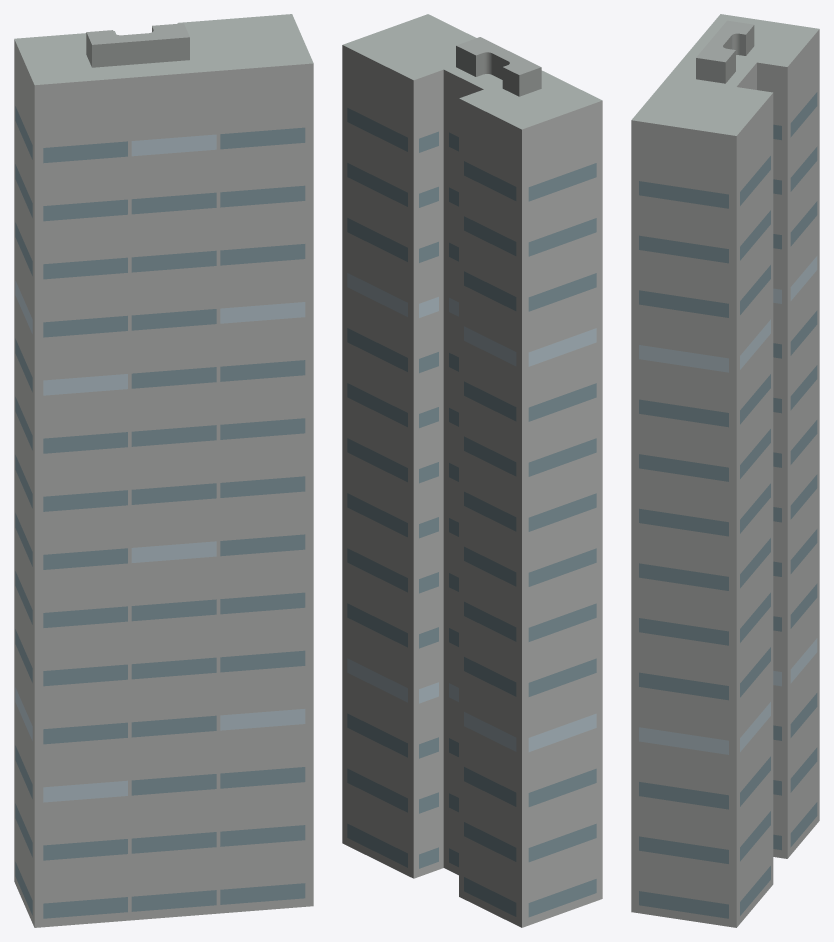
Rendered from fallback-dh-honor-hills-309.glb.
3 views of the same model, side by side, from view 1: azimuth 30°, elevation 25°; view 2: azimuth 150°, elevation 25°; view 3: azimuth 270°, elevation 25° (orthographic). The views are drawn at different scales.
Parts seen in each view (by area): view 1: fallback-dh-honor-hills-309; view 2: fallback-dh-honor-hills-309; view 3: fallback-dh-honor-hills-309.
Part boxes in pixels (bbox=[...]): fallback-dh-honor-hills-309: bbox=[14, 14, 313, 927]; fallback-dh-honor-hills-309: bbox=[342, 14, 602, 927]; fallback-dh-honor-hills-309: bbox=[631, 14, 819, 927].
Bounding box in the file's own units: 29.29 × 91 × 19.1.
